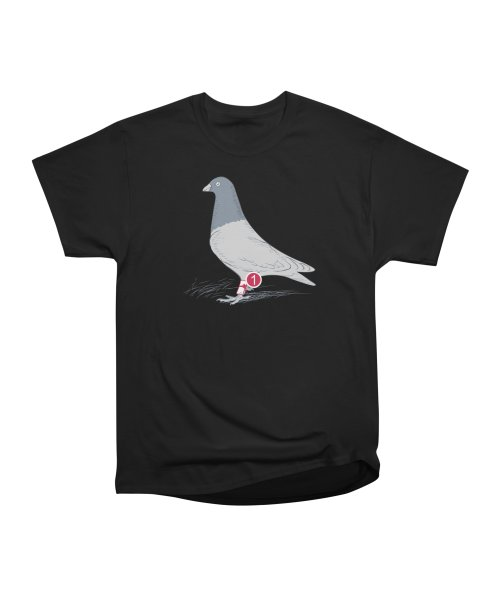design: (180, 173, 322, 309)
